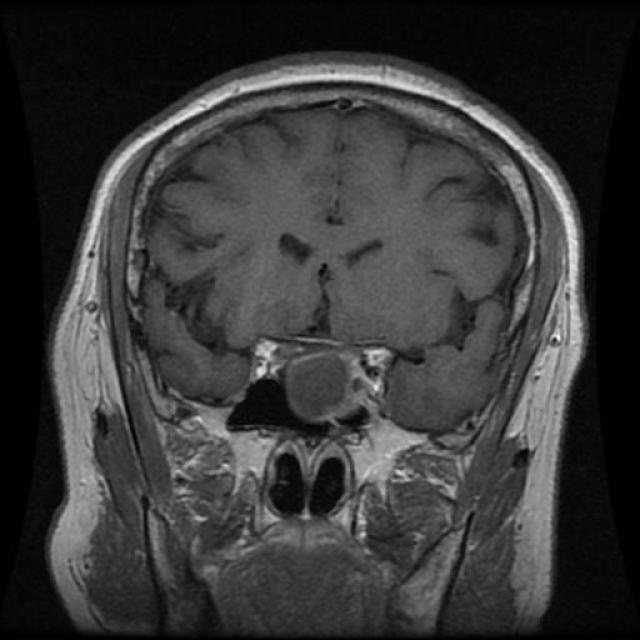pituitary: (240, 336, 395, 429)
